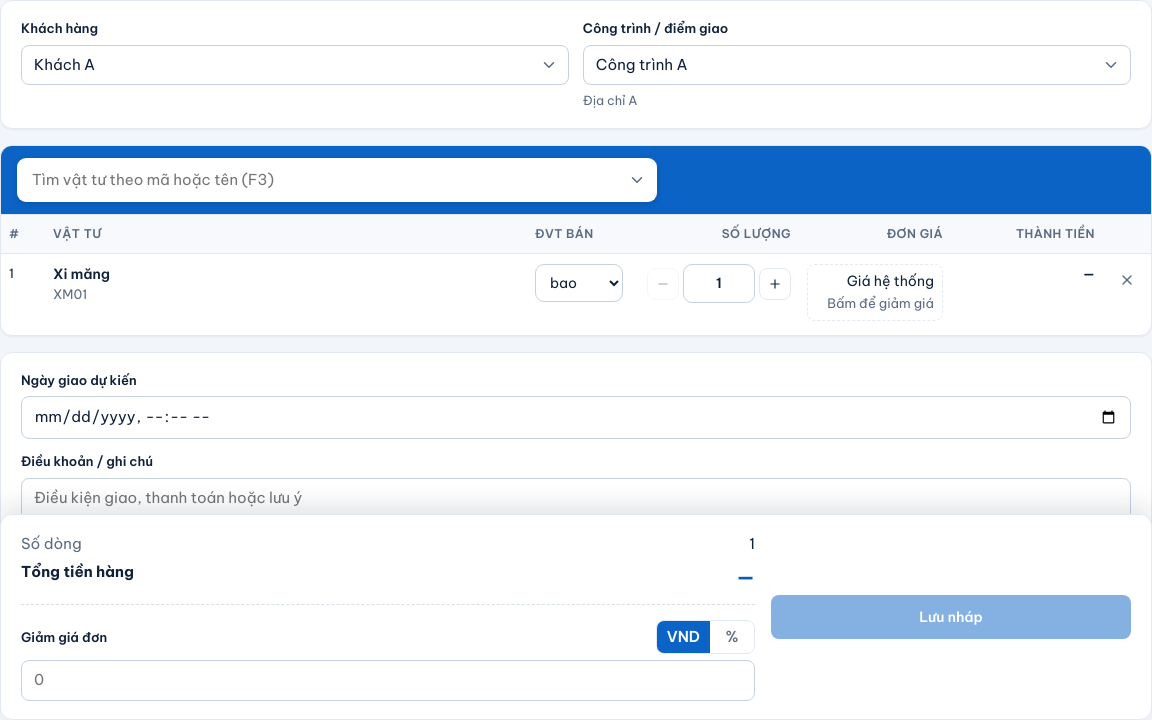
blocks invalid quantity -1 with a line error
Replace the text in the field named "Số lượng dòng 1" with "-1" at (719, 284), box [683,264,755,303]
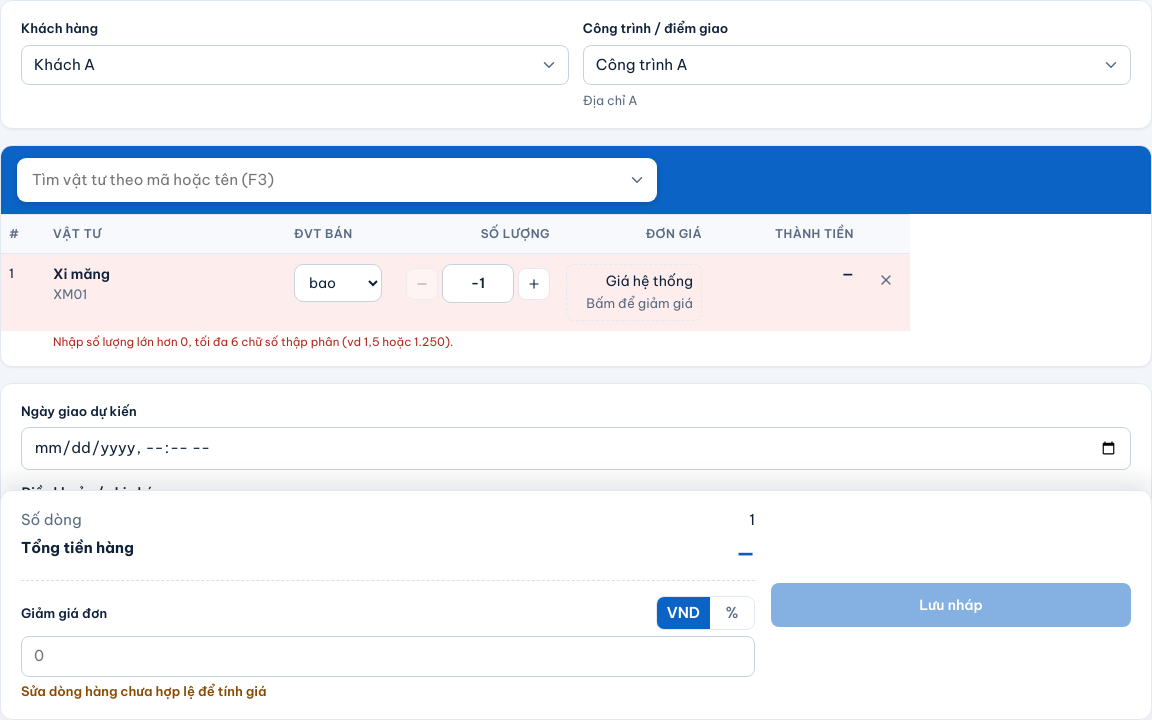
Expected: the button "Lưu nháp" is disabled, [771,583,1131,627]
Result: the message shows "Nhập số lượng lớn hơn 0" at [53,334,453,349]
